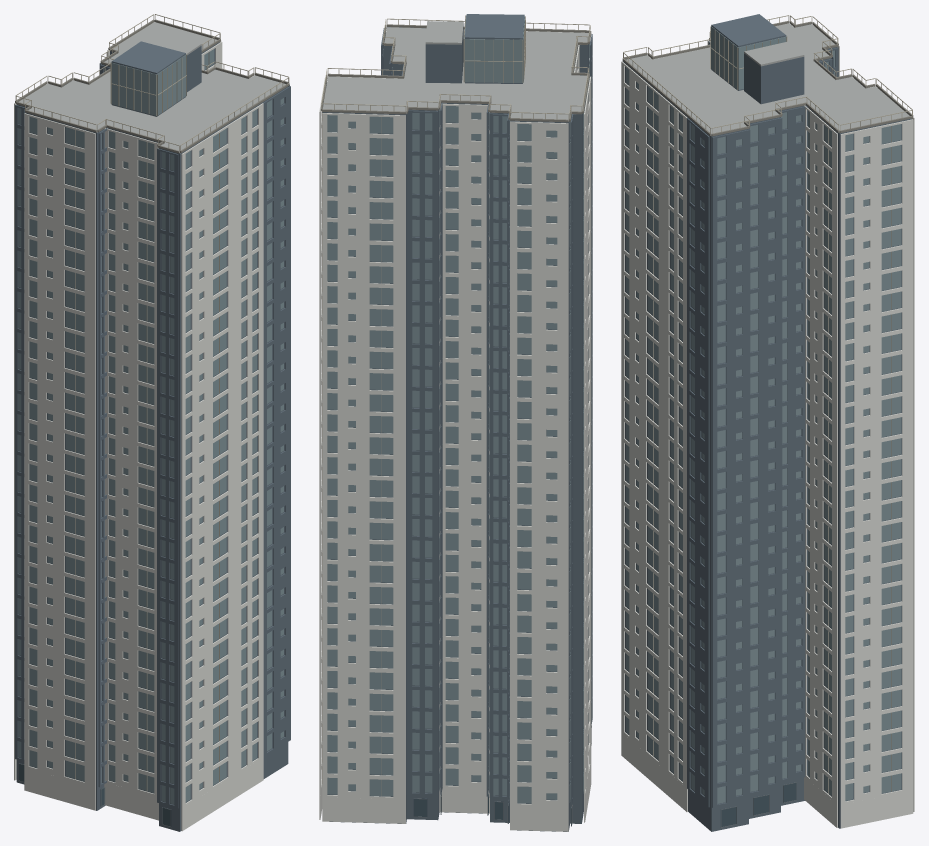
The model's file is bespoke-raemian-onebailey-112.glb.
3 views of the same model, side by side, from view 1: azimuth 30°, elevation 25°; view 2: azimuth 150°, elevation 25°; view 3: azimuth 270°, elevation 25° (orthographic). The views are drawn at different scales.
Parts seen in each view (by area): view 1: 112_pale_bays_navy_shafts_5, 112_pale_bays_navy_shafts_1, 112_editable_massing, 112_glass_roof_crown_4, 112_pale_bays_navy_shafts_3, 112_glass_roof_crown_1; view 2: 112_pale_bays_navy_shafts_5, 112_pale_bays_navy_shafts_1, 112_editable_massing, 112_glass_roof_crown_4, 112_pale_bays_navy_shafts_3, 112_glass_roof_crown_1, 112_pale_bays_navy_shafts_2; view 3: 112_pale_bays_navy_shafts_5, 112_editable_massing, 112_pale_bays_navy_shafts_1, 112_glass_roof_crown_4, 112_pale_bays_navy_shafts_3, 112_glass_roof_crown_1, 112_pale_bays_navy_shafts_2.
Part boxes in pixels (x1=…): 112_pale_bays_navy_shafts_5: x1=14, y1=22, x2=263, y2=831; 112_pale_bays_navy_shafts_1: x1=18, y1=49, x2=283, y2=804; 112_editable_massing: x1=15, y1=41, x2=290, y2=831; 112_glass_roof_crown_4: x1=19, y1=22, x2=285, y2=153; 112_pale_bays_navy_shafts_3: x1=15, y1=14, x2=289, y2=791; 112_glass_roof_crown_1: x1=15, y1=19, x2=289, y2=153; 112_pale_bays_navy_shafts_5: x1=319, y1=31, x2=591, y2=831; 112_pale_bays_navy_shafts_1: x1=322, y1=15, x2=590, y2=803; 112_editable_massing: x1=322, y1=14, x2=592, y2=831; 112_glass_roof_crown_4: x1=323, y1=21, x2=588, y2=122; 112_pale_bays_navy_shafts_3: x1=321, y1=15, x2=590, y2=796; 112_glass_roof_crown_1: x1=320, y1=24, x2=591, y2=122; 112_pale_bays_navy_shafts_2: x1=413, y1=794, x2=571, y2=826; 112_pale_bays_navy_shafts_5: x1=621, y1=23, x2=914, y2=828; 112_editable_massing: x1=622, y1=14, x2=911, y2=831; 112_pale_bays_navy_shafts_1: x1=626, y1=26, x2=901, y2=803; 112_glass_roof_crown_4: x1=626, y1=23, x2=909, y2=136; 112_pale_bays_navy_shafts_3: x1=623, y1=15, x2=912, y2=793; 112_glass_roof_crown_1: x1=622, y1=21, x2=913, y2=136; 112_pale_bays_navy_shafts_2: x1=720, y1=782, x2=796, y2=826.
Size of the model in its own units: 34.29 by 103 by 37.09.
